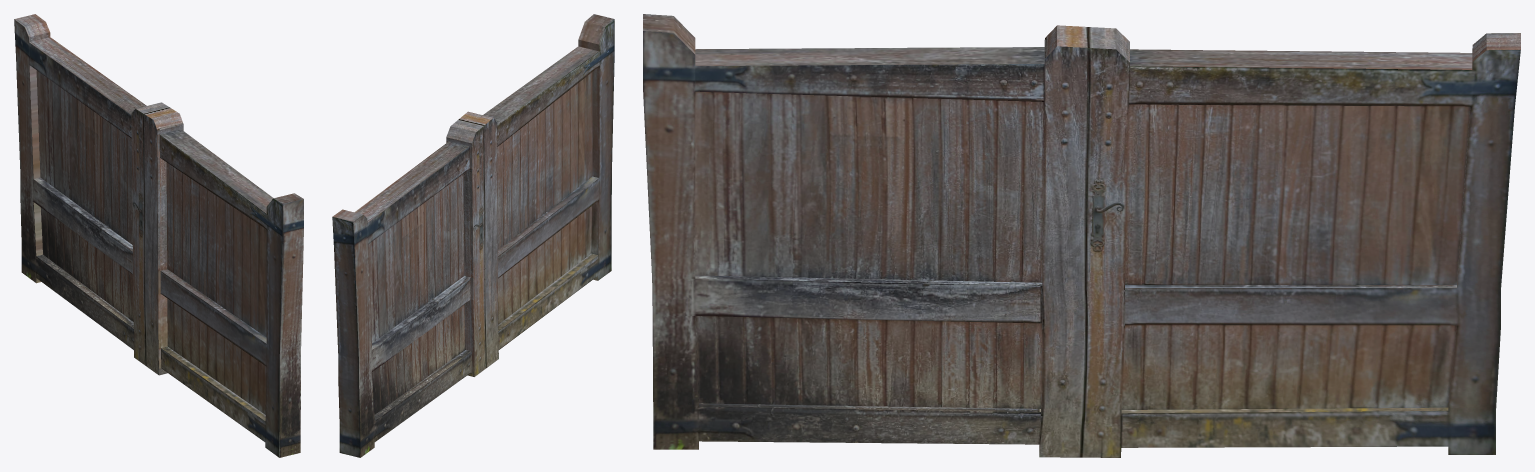
The model's file is uploads_files_3965925_WoodenGate001.glb.
3 views of the same model, side by side, from view 1: azimuth 30°, elevation 25°; view 2: azimuth 150°, elevation 25°; view 3: azimuth 270°, elevation 25° (orthographic). The views are drawn at different scales.
Parts seen in each view (by area): view 1: Cube; view 2: Cube; view 3: Cube.
Boxes of the visible parts, x1,y1,x2,y2 form: Cube: (14, 14, 303, 457); Cube: (332, 14, 614, 457); Cube: (643, 14, 1520, 457).
Bounding box in the file's own units: 0.2256 × 2.14 × 4.
1 material, 1 textured.
